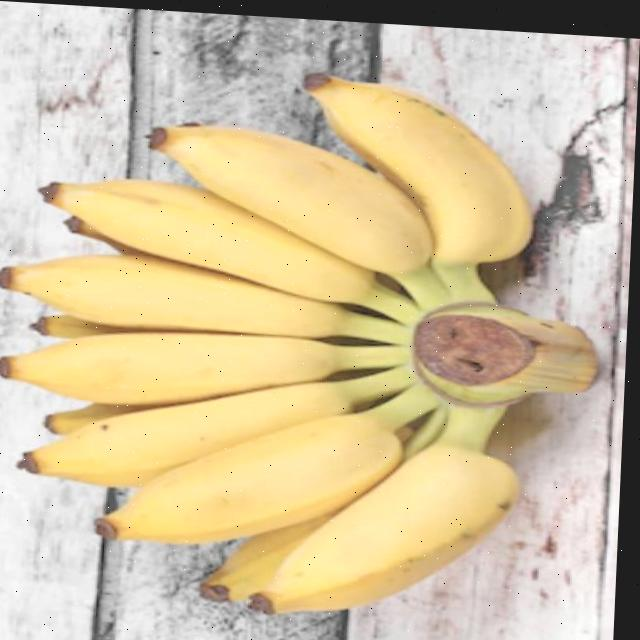banana: (9, 48, 591, 640)
